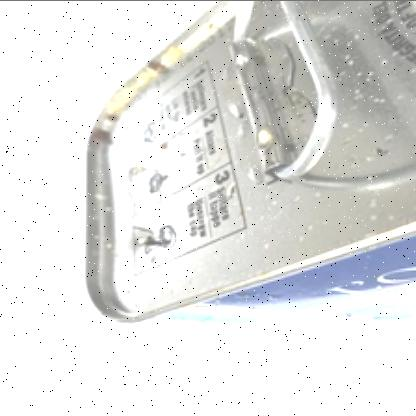Can: (84, 0, 416, 336)
